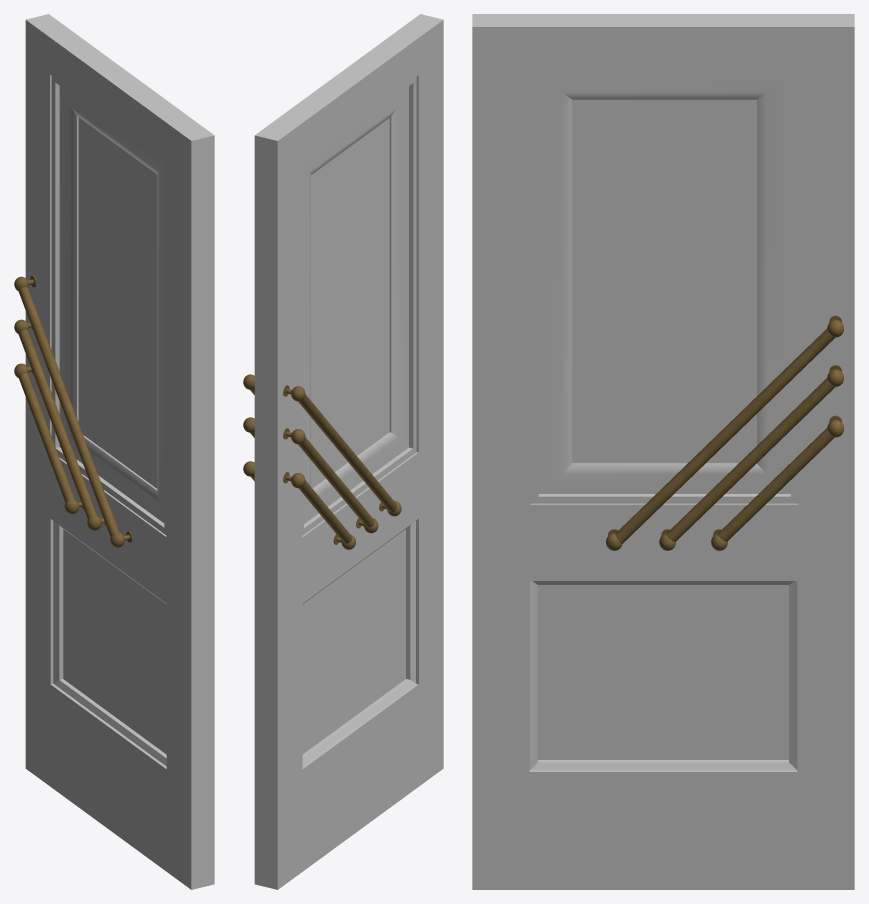
Rendered from SM_WD43_DOOR_1.fbx.
The picture shows the model from 3 angles, left to right: view 1: azimuth 30°, elevation 25°; view 2: azimuth 150°, elevation 25°; view 3: azimuth 270°, elevation 25°; orthographic projection. The views are drawn at different scales.
Parts seen in each view (by area): view 1: SM_WD43_DOOR_1; view 2: SM_WD43_DOOR_1; view 3: SM_WD43_DOOR_1.
Boxes of the visible parts, x1=… form: SM_WD43_DOOR_1: x1=14, y1=14, x2=214, y2=889; SM_WD43_DOOR_1: x1=243, y1=14, x2=443, y2=889; SM_WD43_DOOR_1: x1=472, y1=14, x2=854, y2=889.
Size of the model in its own units: 24.44 by 117 by 290.
